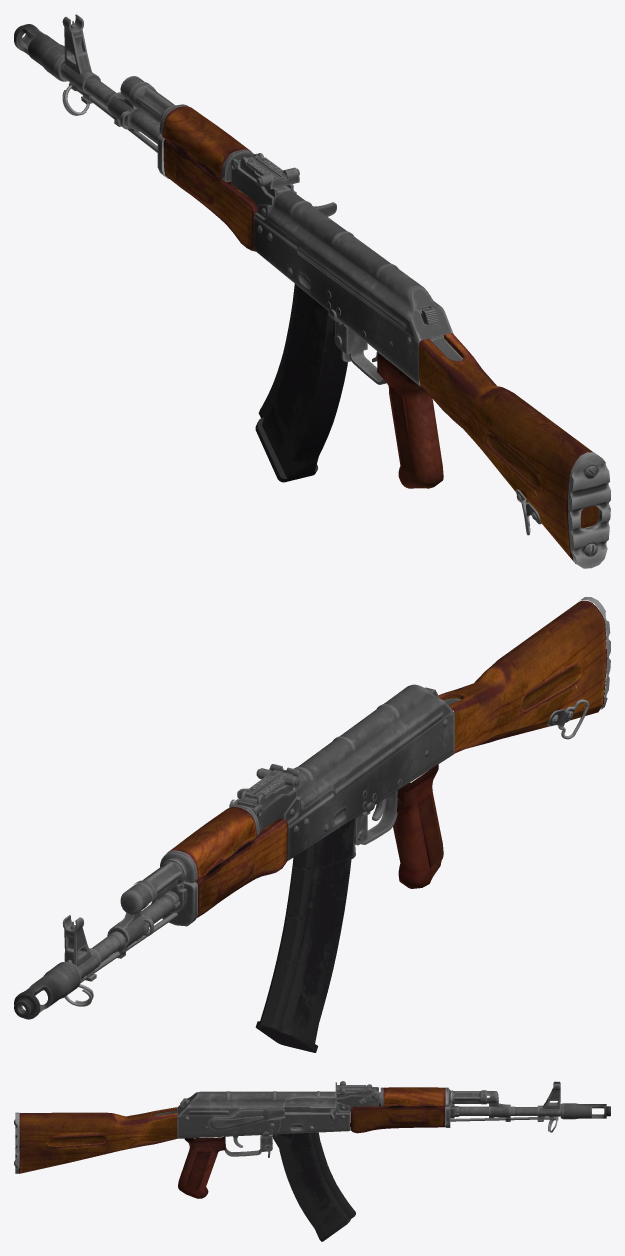
File: akm.glb
The picture shows the model from 3 angles, top to bottom: view 1: azimuth 30°, elevation 25°; view 2: azimuth 150°, elevation 25°; view 3: azimuth 270°, elevation 25°; orthographic projection. The views are drawn at different scales.
Visible parts, largest first — view 1: AK, mag; view 2: AK, mag; view 3: AK, mag, bolt.
Boxes of the visible parts, bbox=[...] form: AK: bbox=[14, 14, 610, 568]; mag: bbox=[255, 284, 347, 482]; AK: bbox=[14, 597, 610, 1019]; mag: bbox=[255, 818, 355, 1052]; AK: bbox=[14, 1081, 610, 1198]; mag: bbox=[272, 1132, 355, 1241]; bolt: bbox=[282, 1094, 336, 1120].
Size of the model in its own units: 0.0719 by 0.2494 by 0.87.
1 material, 1 textured.
